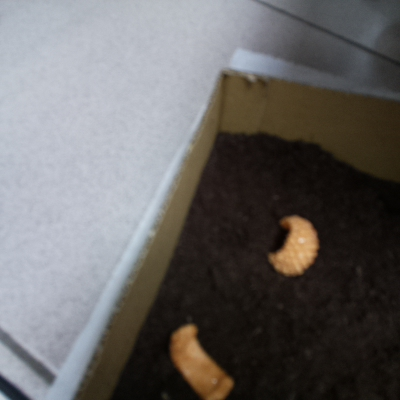eggs: (162, 319, 239, 400), (260, 211, 320, 279)
